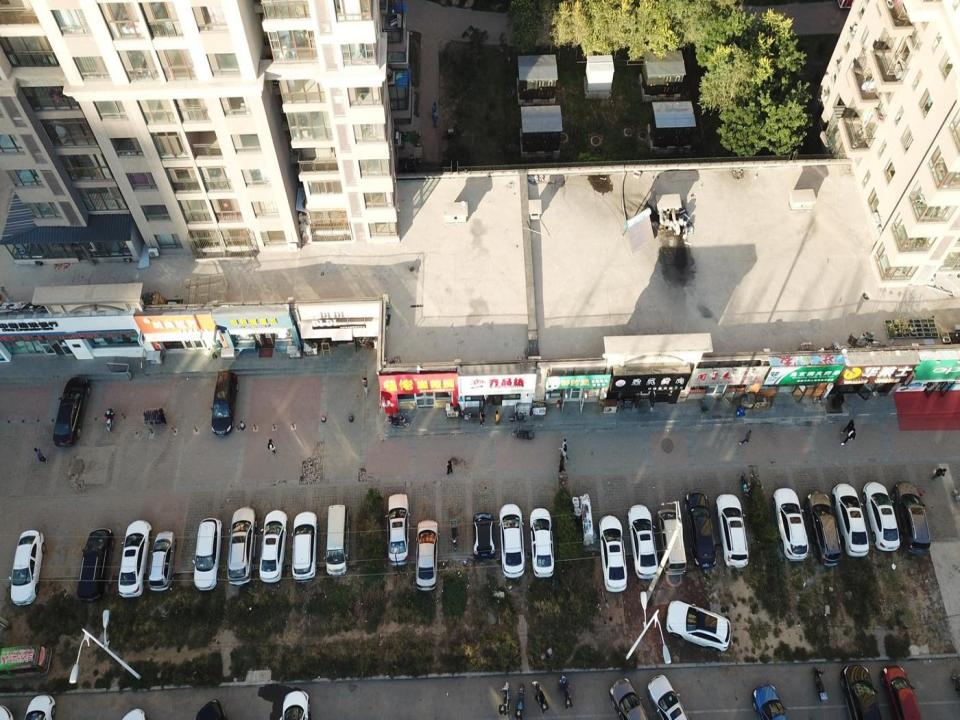car: (664, 598, 731, 652), (806, 490, 843, 568), (893, 481, 930, 556), (863, 480, 901, 552), (832, 481, 868, 556), (773, 487, 809, 561), (53, 375, 90, 447), (10, 531, 44, 609), (78, 530, 113, 602), (118, 518, 149, 597), (685, 492, 716, 570), (717, 494, 748, 569), (840, 663, 882, 718), (598, 514, 627, 593), (879, 667, 921, 718), (227, 508, 254, 586), (499, 502, 526, 578), (194, 518, 222, 589), (384, 494, 411, 566), (628, 504, 655, 576), (646, 675, 688, 719), (292, 511, 318, 582), (261, 510, 285, 582), (415, 519, 438, 590), (529, 508, 553, 576), (150, 531, 175, 593), (610, 676, 645, 719), (473, 514, 496, 561), (753, 684, 783, 719), (276, 689, 311, 719)
van: (209, 373, 237, 436), (325, 504, 349, 576)
